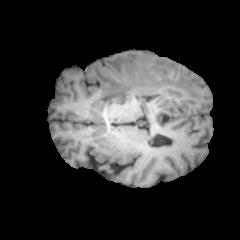glioma: (92, 52, 200, 108)
